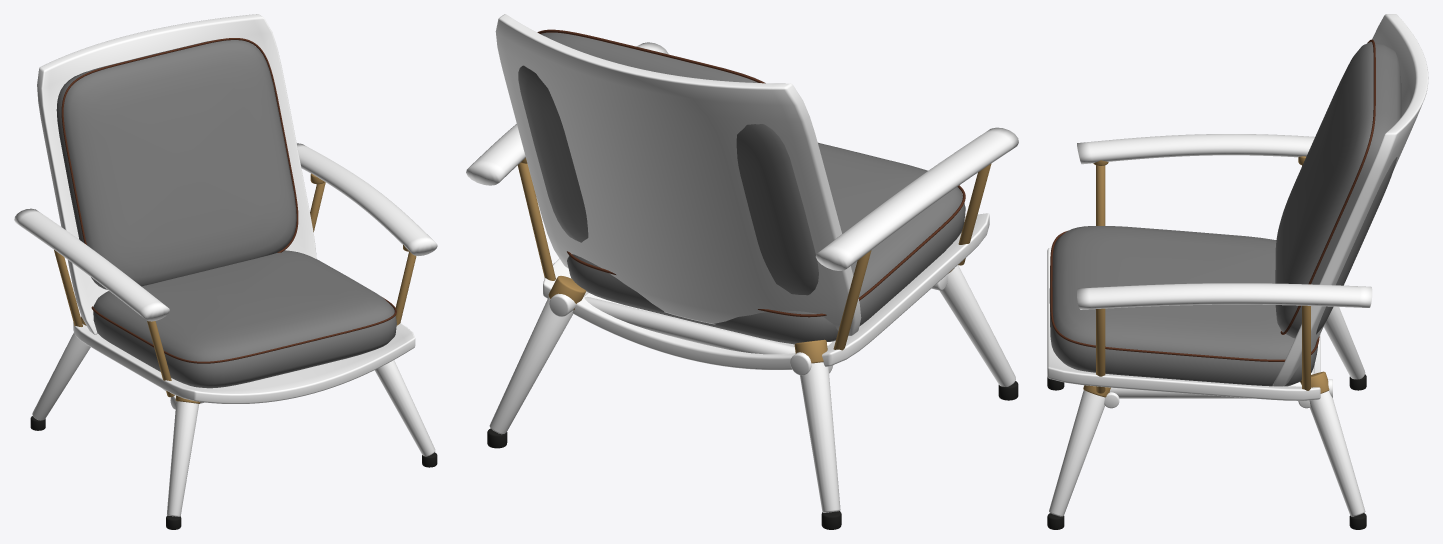
Rendered from asset.glb.
The picture shows the model from 3 angles, left to right: view 1: azimuth 30°, elevation 25°; view 2: azimuth 150°, elevation 25°; view 3: azimuth 270°, elevation 25°; orthographic projection. The views are drawn at different scales.
Visible parts, largest first — view 1: back_cushion, seat_cushion, timber_back, timber_seat, arm_left, arm_right, leg_front_left, leg_front_right, leg_rear_left, back_cushion_piping, seat_cushion_piping, arm_support_rear_left (+2 smaller); view 2: timber_back, back_cushion, seat_cushion, timber_seat, arm_left, leg_rear_left, cross_brace_rear, leg_rear_right, leg_front_left, arm_right, arm_support_rear_right, arm_support_rear_left (+3 smaller); view 3: seat_cushion, back_cushion, timber_back, arm_right, arm_left, timber_seat, leg_front_right, leg_rear_right, leg_rear_left, seat_cushion_piping, underframe_right, back_cushion_piping (+3 smaller).
Boxes of the visible parts, bbox=[...] form: back_cushion: bbox=[56, 39, 296, 289]; seat_cushion: bbox=[93, 250, 396, 388]; timber_back: bbox=[37, 14, 316, 334]; timber_seat: bbox=[73, 322, 415, 403]; arm_left: bbox=[14, 208, 169, 321]; arm_right: bbox=[297, 143, 437, 255]; leg_front_left: bbox=[167, 401, 198, 516]; leg_front_right: bbox=[374, 360, 435, 456]; leg_rear_left: bbox=[32, 332, 90, 420]; back_cushion_piping: bbox=[61, 38, 298, 252]; seat_cushion_piping: bbox=[91, 297, 396, 363]; arm_support_rear_left: bbox=[54, 250, 82, 326]; timber_back: bbox=[495, 14, 861, 335]; back_cushion: bbox=[518, 32, 818, 295]; seat_cushion: bbox=[567, 142, 965, 344]; timber_seat: bbox=[543, 213, 989, 369]; arm_left: bbox=[815, 127, 1018, 270]; leg_rear_left: bbox=[800, 362, 840, 512]; cross_brace_rear: bbox=[584, 296, 833, 373]; leg_rear_right: bbox=[489, 297, 573, 434]; leg_front_left: bbox=[939, 265, 1015, 386]; arm_right: bbox=[466, 42, 668, 185]; arm_support_rear_right: bbox=[517, 162, 555, 280]; arm_support_rear_left: bbox=[833, 250, 871, 350]; seat_cushion: bbox=[1049, 226, 1317, 386]; back_cushion: bbox=[1275, 42, 1401, 338]; timber_back: bbox=[1272, 14, 1428, 386]; arm_right: bbox=[1077, 283, 1372, 309]; arm_left: bbox=[1077, 134, 1314, 164]; timber_seat: bbox=[1047, 247, 1320, 400]; leg_front_right: bbox=[1049, 390, 1104, 516]; leg_rear_right: bbox=[1309, 391, 1365, 516]; leg_rear_left: bbox=[1324, 306, 1365, 379]; seat_cushion_piping: bbox=[1050, 230, 1319, 361]; underframe_right: bbox=[1109, 379, 1332, 398]; back_cushion_piping: bbox=[1280, 39, 1375, 334].
Size of the model in its own units: 1.09 by 1.19 by 1.07.
